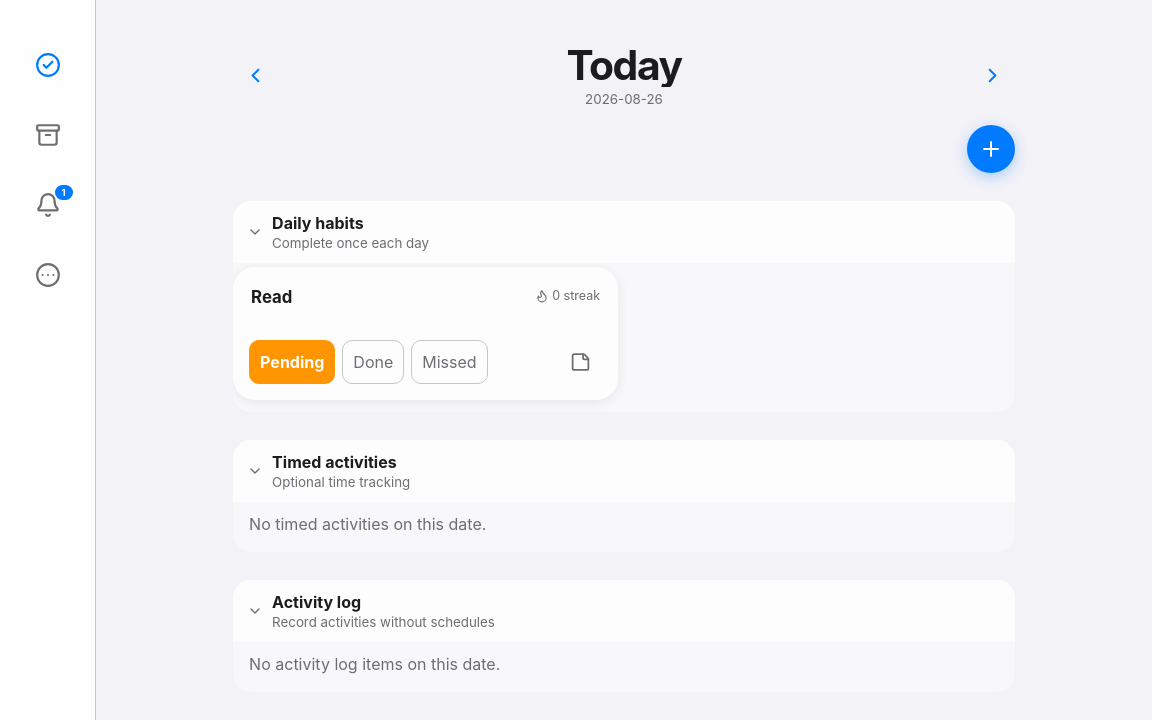
Test case: Habit Tracker › edits a daily habit's original start date with a date picker
Click the button with aria-label "Open Read": (272, 297) [249, 283, 602, 327]
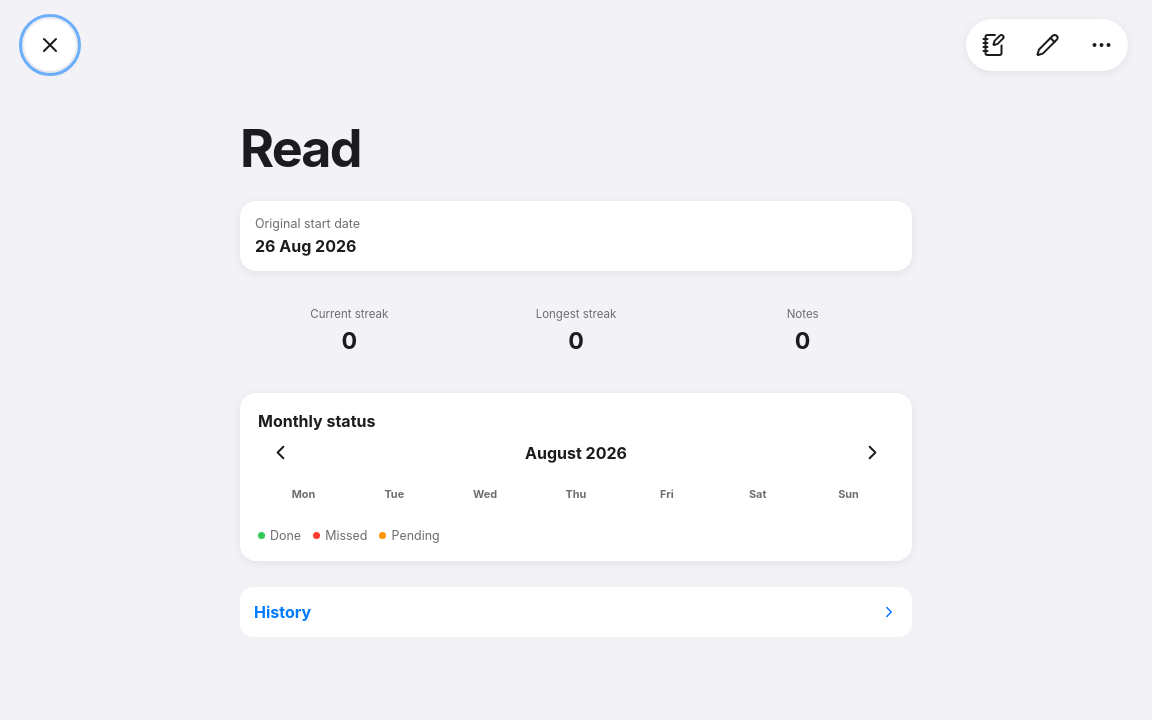
Click the button named "Edit habit": (1047, 45) [1020, 19, 1074, 71]
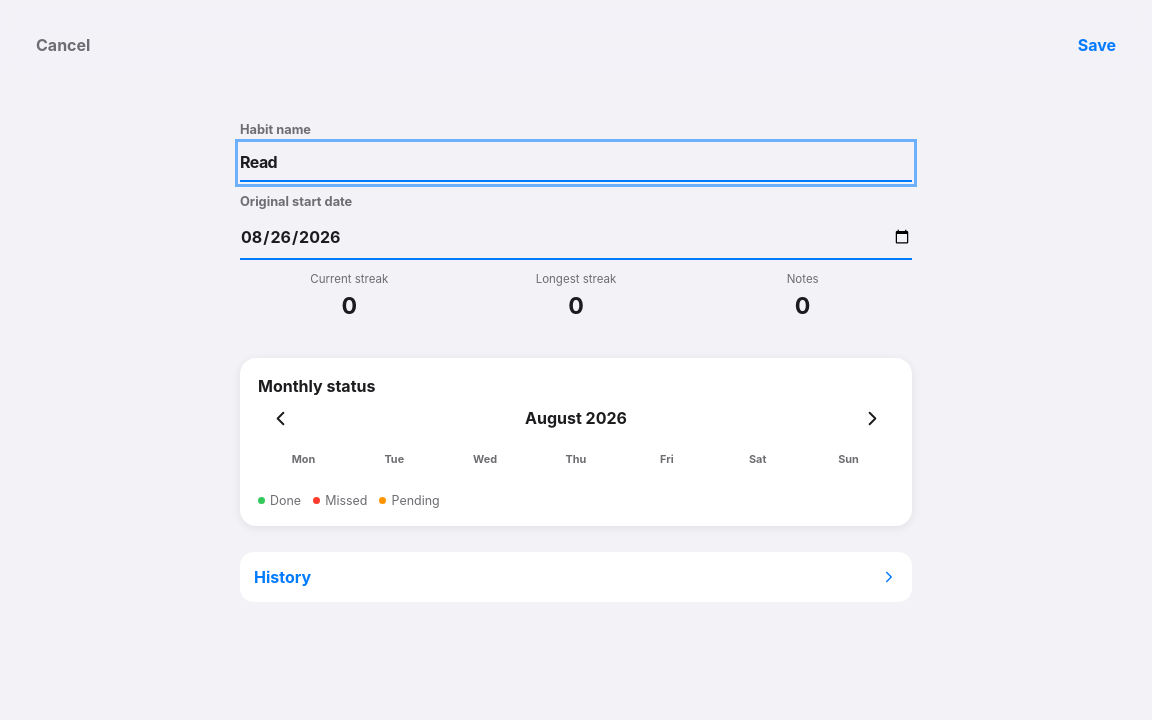
In the date field labelled "Original start date": (576, 238) [240, 216, 912, 260], type "2026-08-01"
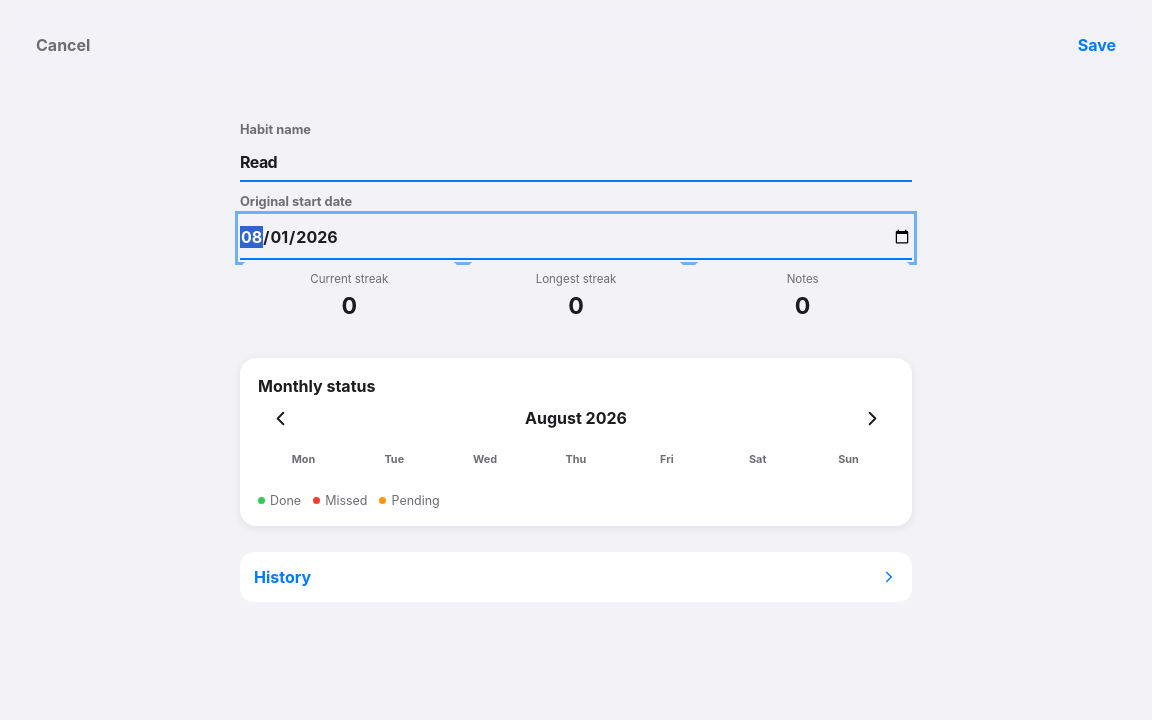
Click the button "Save": (1097, 45) [1066, 23, 1128, 67]
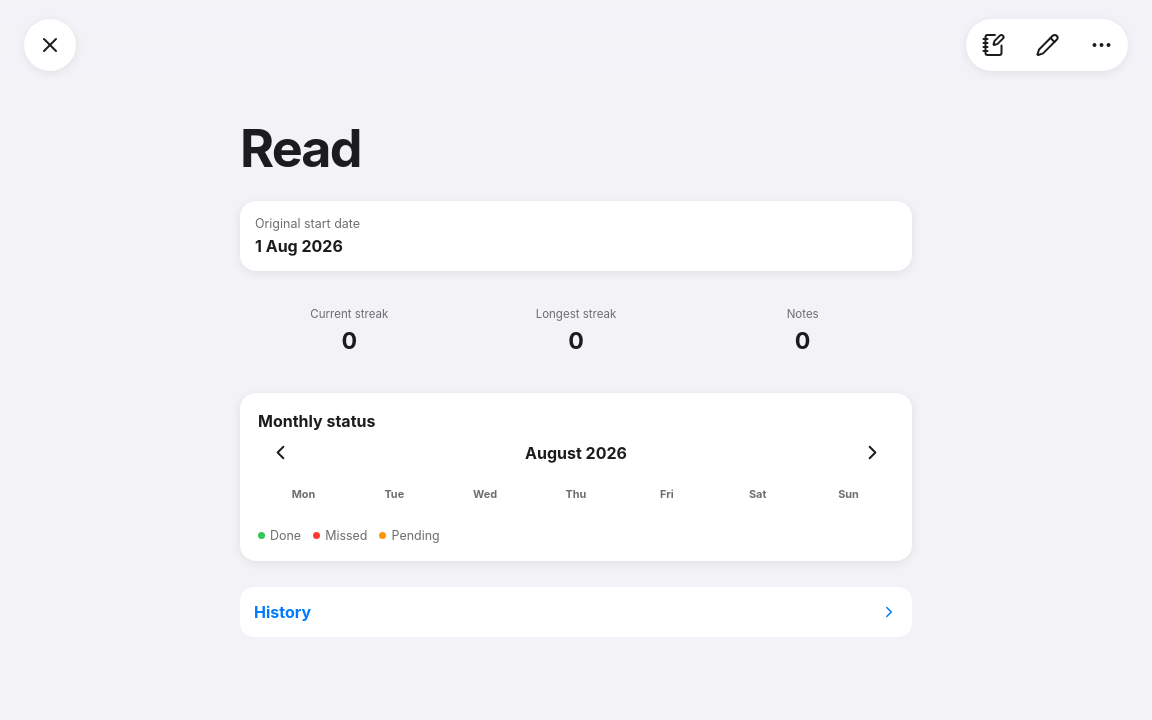
Check: the text "1 Aug 2026" is shown, box [255, 236, 343, 256]
